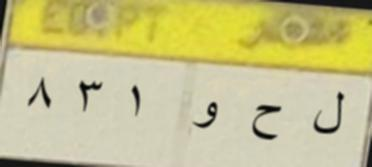1: (122, 81, 149, 127)
3: (72, 72, 106, 119)
7aa: (248, 96, 291, 150)
8: (22, 71, 56, 117)
laam: (312, 86, 347, 144)
waw: (192, 97, 220, 134)
